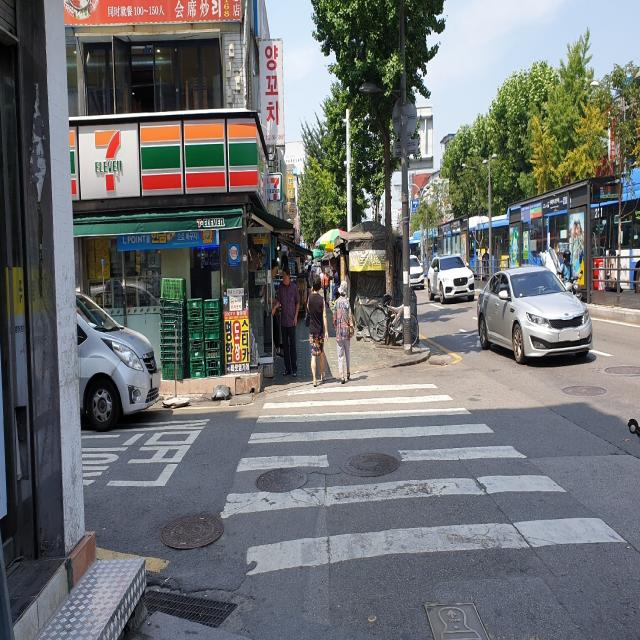횡단보도: (219, 381, 628, 577)
